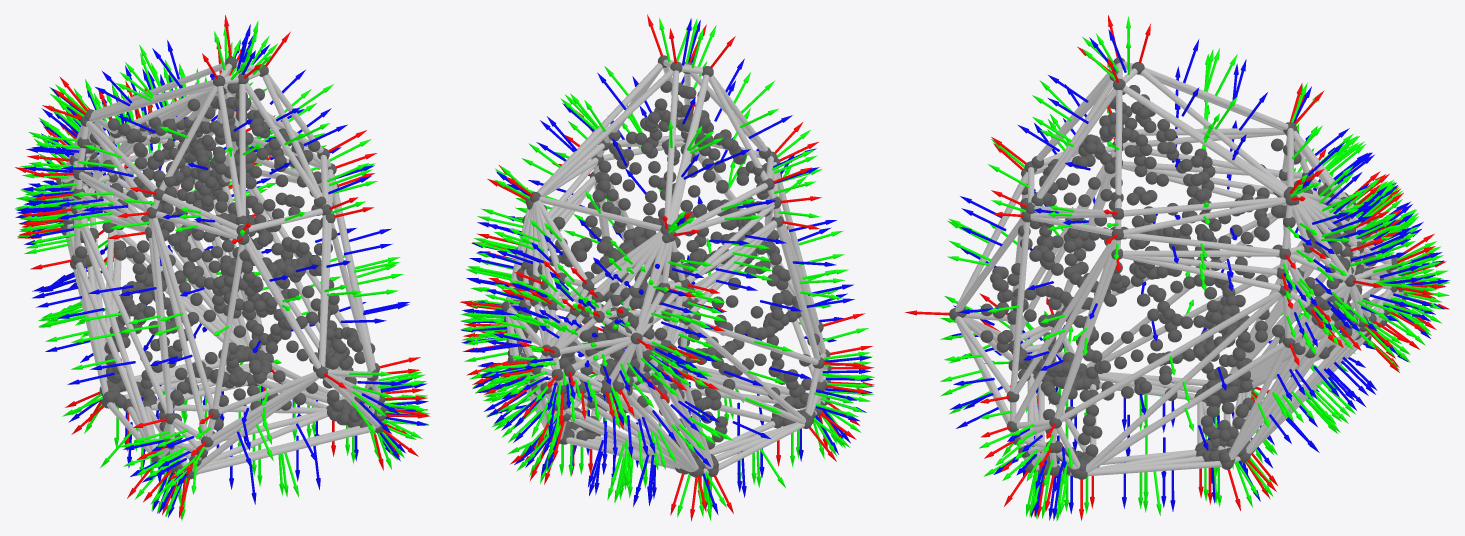
Rendered from author1_bulbasaur.gltf.
The picture shows the model from 3 angles, left to right: view 1: azimuth 30°, elevation 25°; view 2: azimuth 150°, elevation 25°; view 3: azimuth 270°, elevation 25°; orthographic projection.
Size of the model in its own units: 0.5305 by 0.7722 by 0.8523.
